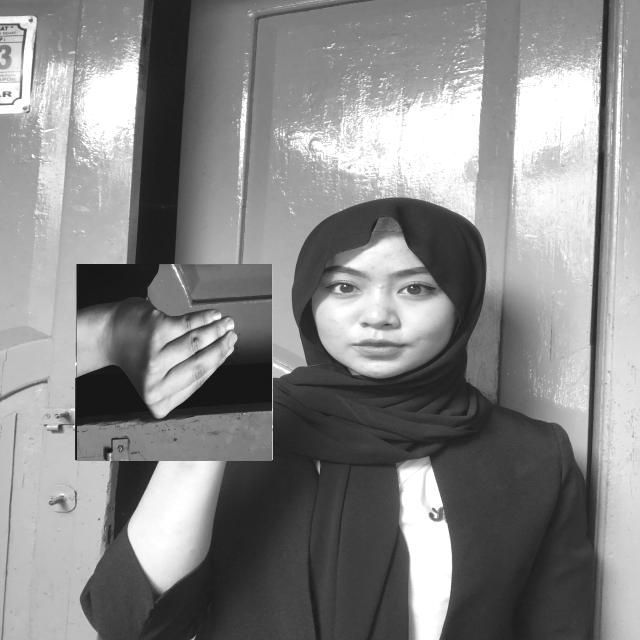kapan: (76, 264, 272, 461)
